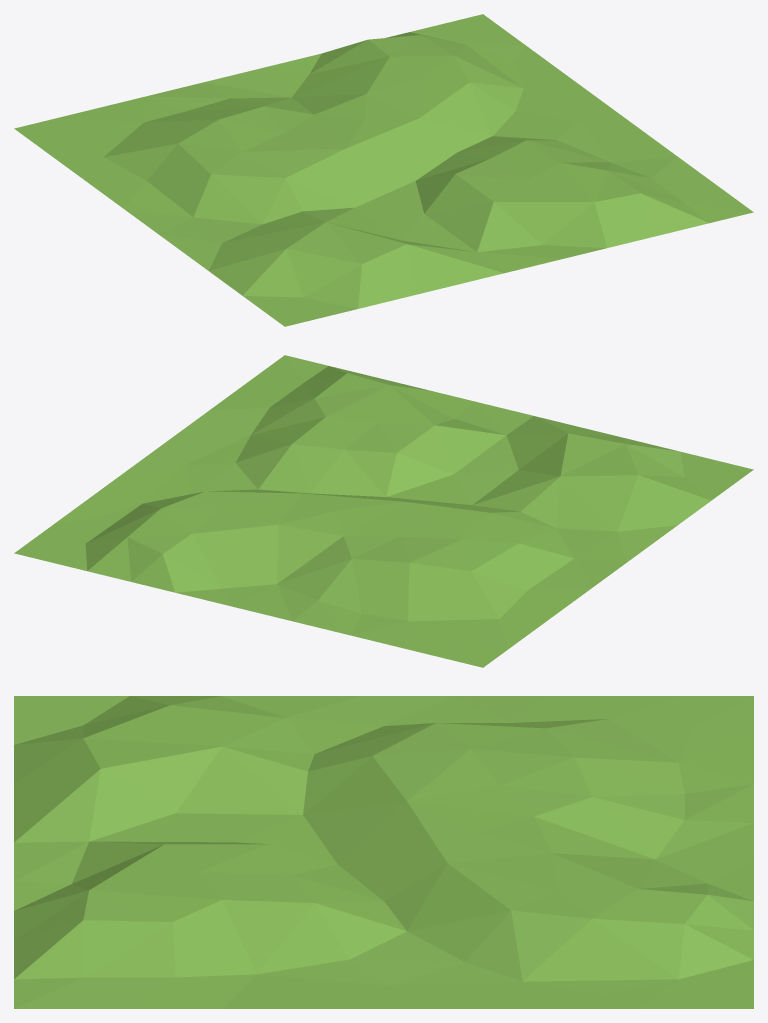
The model's file is MT_Terrain_S_c_27.fbx.
3 renders of one model, top to bottom at view 1: azimuth 30°, elevation 25°; view 2: azimuth 150°, elevation 25°; view 3: azimuth 270°, elevation 25°, orthographic. The views are drawn at different scales.
Parts seen in each view (by area): view 1: MT_Terrain_S_c_27; view 2: MT_Terrain_S_c_27; view 3: MT_Terrain_S_c_27.
Boxes of the visible parts, <box> form: MT_Terrain_S_c_27: <box>14,14,753,326</box>; MT_Terrain_S_c_27: <box>14,355,753,667</box>; MT_Terrain_S_c_27: <box>14,696,753,1008</box>.
Bounding box in the file's own units: 2500 × 126 × 2500.
